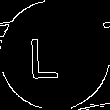L_N: (39, 29, 71, 81)
